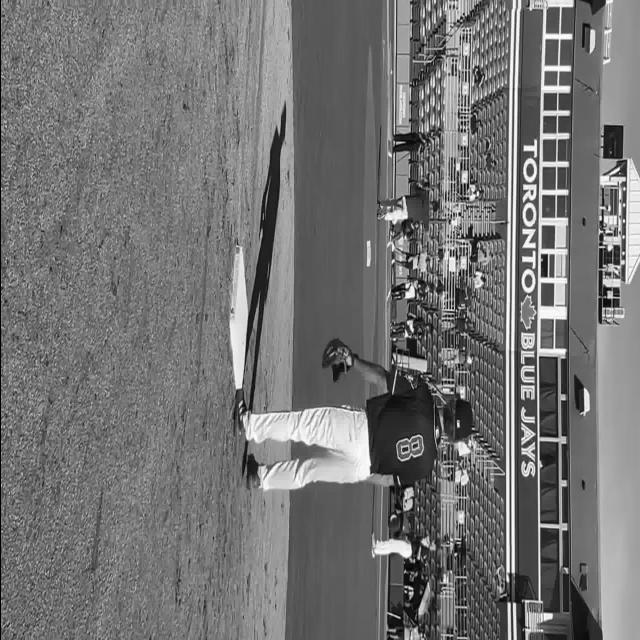base: (229, 244, 248, 389)
baseball_glove: (321, 338, 351, 382)
shoe: (232, 389, 246, 438), (245, 453, 260, 491)
